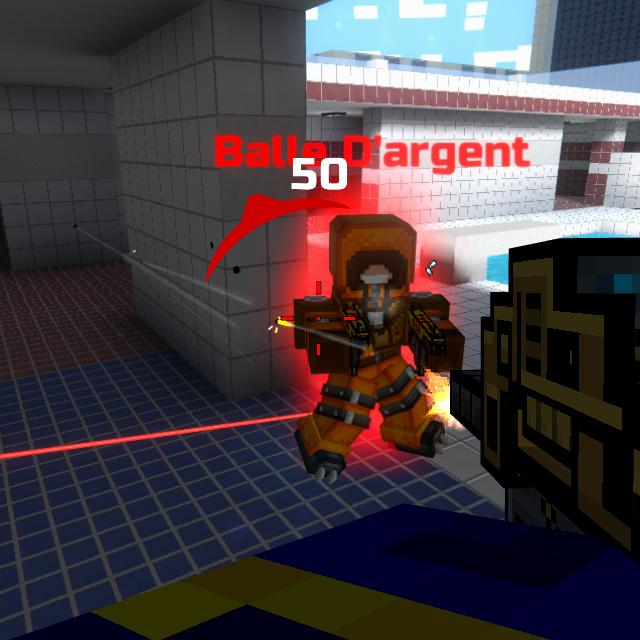Enemy: (296, 219, 471, 493)
